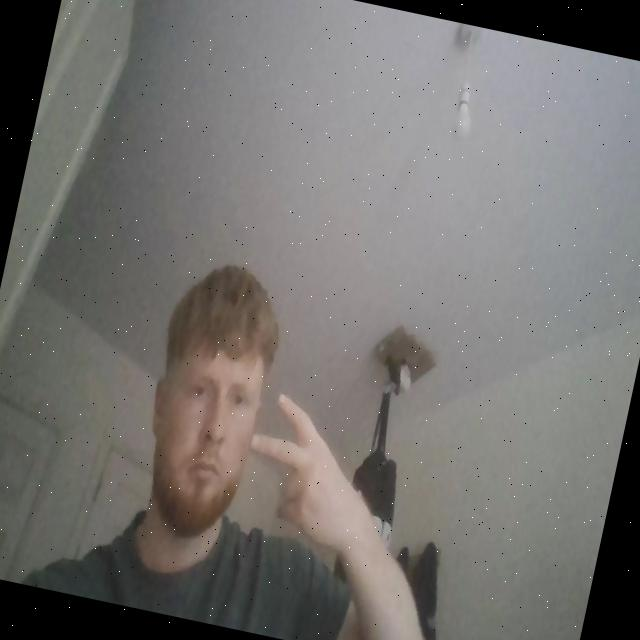scissors: (232, 387, 374, 554)
